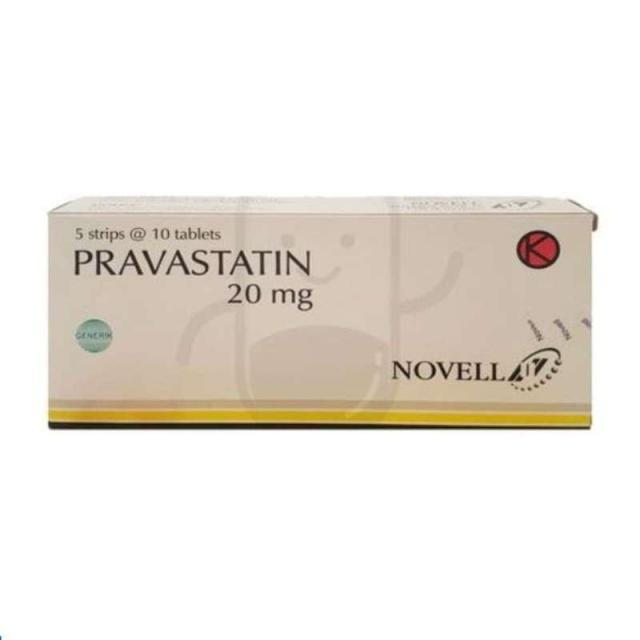drug-name: (67, 244, 325, 278)
